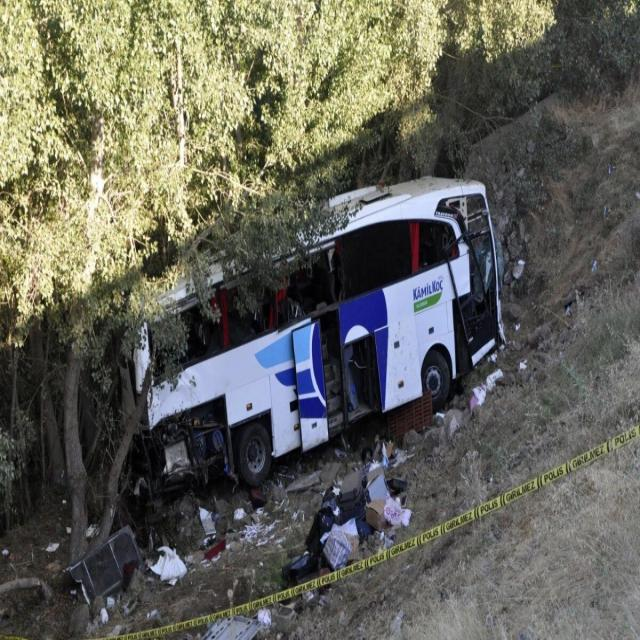accident: (148, 178, 501, 484)
